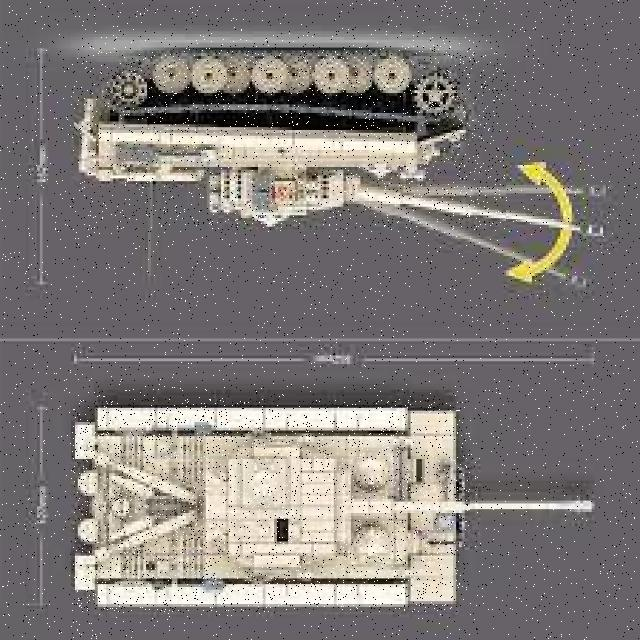MIL_MBT: (72, 399, 469, 612), (77, 46, 505, 229)
